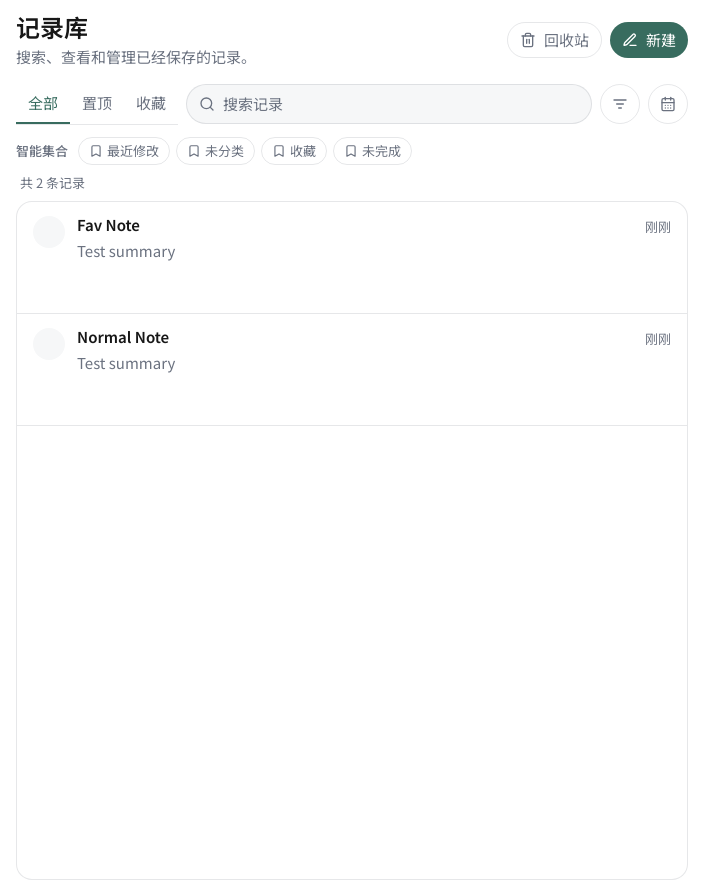
Test: LibraryPage › filters items by favorite tab
Click the tab with test id "library-tab-favorite".
click(151, 104)  # box [124,84,178,124]
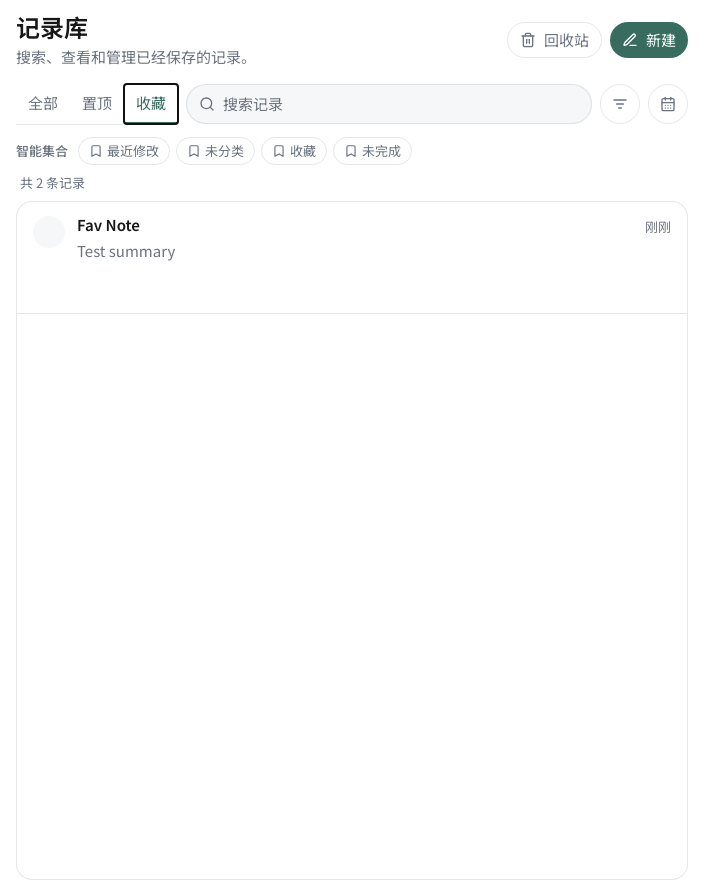
Expected: the text "Fav Note" is shown, [77,214,140,236]
Expected: the button "Normal Note" is gone
